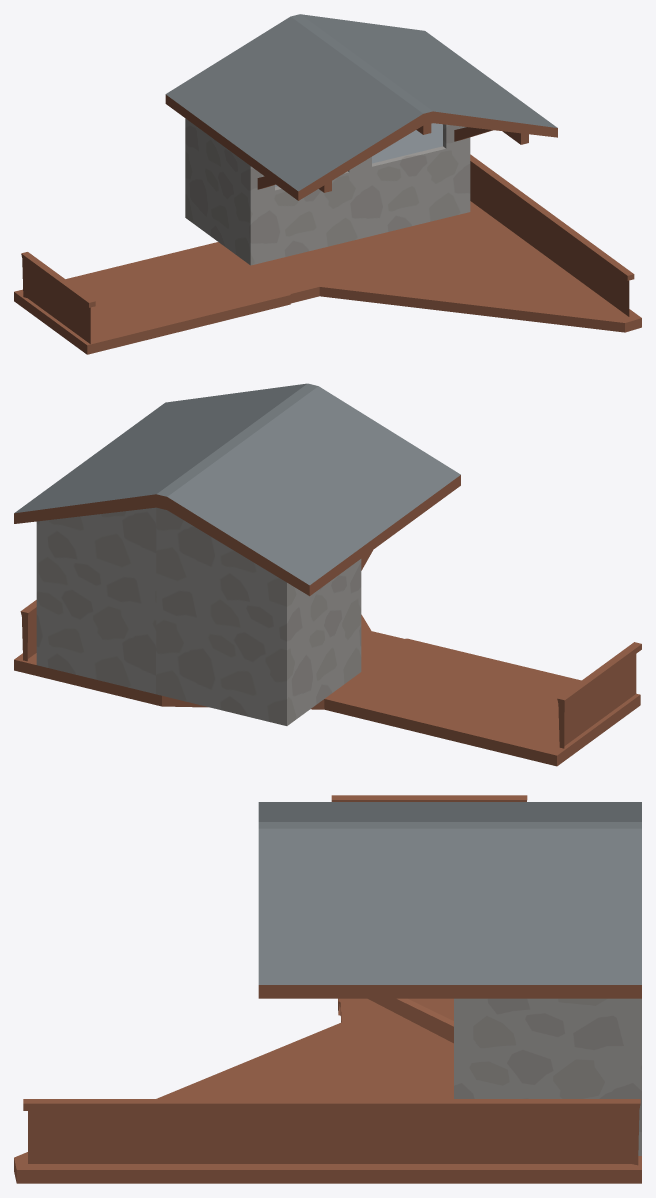
File: LightStoneBuildingLargeChalet2.fbx
3 renders of one model, top to bottom at view 1: azimuth 30°, elevation 25°; view 2: azimuth 150°, elevation 25°; view 3: azimuth 270°, elevation 25°, orthographic. The views are drawn at different scales.
Parts seen in each view (by area): view 1: LightStoneBuildingLargeChalet2; view 2: LightStoneBuildingLargeChalet2; view 3: LightStoneBuildingLargeChalet2.
Boxes of the visible parts, x1,y1,x2,y2 form: LightStoneBuildingLargeChalet2: (14,14,641,354); LightStoneBuildingLargeChalet2: (14,383,641,766); LightStoneBuildingLargeChalet2: (14,795,641,1183).
Size of the model in its own units: 1653 by 659 by 1404.
3 materials, 2 textured.
